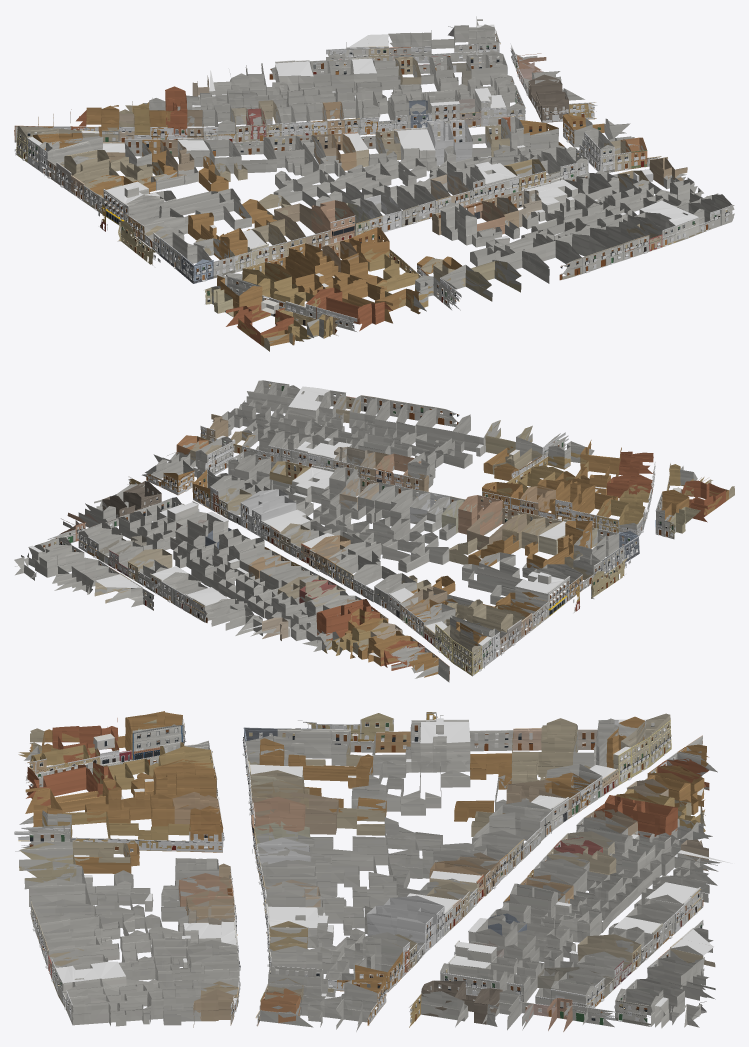
Rendered from zona_0_-1.glb.
The picture shows the model from 3 angles, top to bottom: view 1: azimuth 30°, elevation 25°; view 2: azimuth 150°, elevation 25°; view 3: azimuth 270°, elevation 25°; orthographic projection. The views are drawn at different scales.
Visible parts, largest first — view 1: z_casas_0_-1, z_fachadas_0_-1, z_casas_planas_0_-1; view 2: z_casas_0_-1, z_fachadas_0_-1, z_casas_planas_0_-1; view 3: z_casas_0_-1, z_fachadas_0_-1, z_casas_planas_0_-1.
Boxes of the visible parts, <box> form: z_casas_0_-1: <box>16,24,734,351</box>; z_fachadas_0_-1: <box>14,29,732,334</box>; z_casas_planas_0_-1: <box>14,16,699,289</box>; z_casas_0_-1: <box>15,380,734,677</box>; z_fachadas_0_-1: <box>40,380,681,679</box>; z_casas_planas_0_-1: <box>14,386,606,682</box>; z_casas_0_-1: <box>18,711,717,1031</box>; z_fachadas_0_-1: <box>14,712,703,1026</box>; z_casas_planas_0_-1: <box>55,718,732,1028</box>.
Bounding box in the file's own units: 208 × 12.93 × 215.
